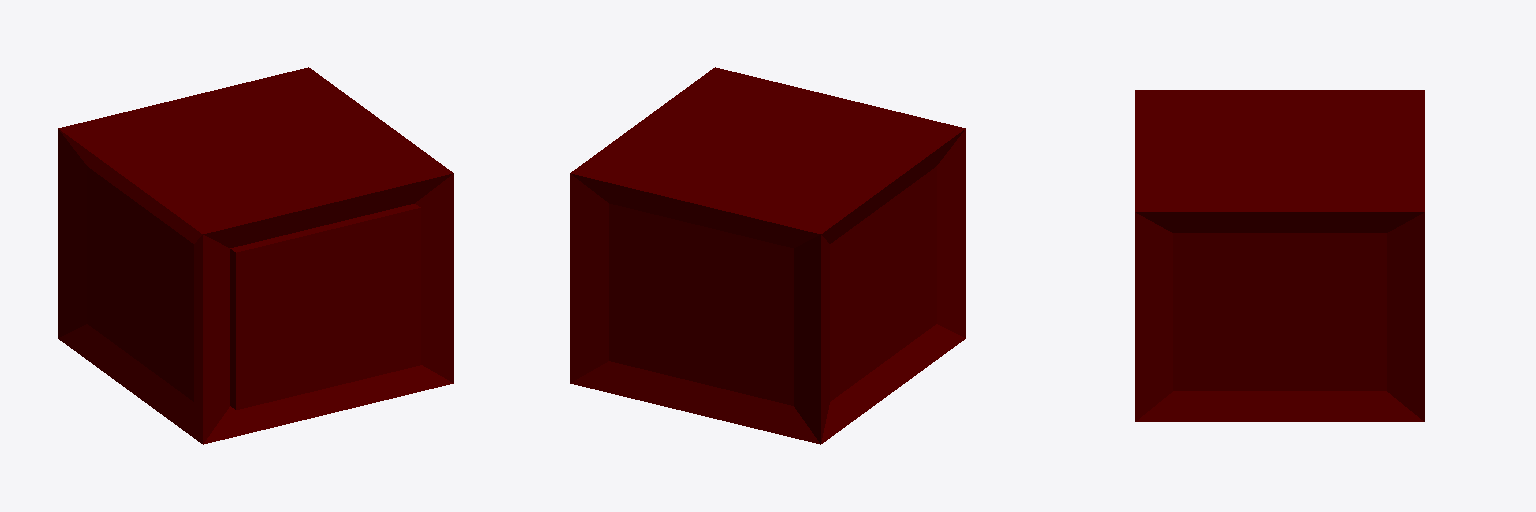
File: VelocitySensor.obj
The picture shows the model from 3 angles: view 1: azimuth 30°, elevation 25°; view 2: azimuth 150°, elevation 25°; view 3: azimuth 270°, elevation 25°; orthographic projection.
Visible parts, largest first — view 1: Handle1; view 2: Handle1; view 3: Handle1.
Boxes of the visible parts, x1=… form: Handle1: x1=58, y1=67, x2=453, y2=444; Handle1: x1=570, y1=67, x2=965, y2=444; Handle1: x1=1135, y1=90, x2=1424, y2=421.
Bounding box in the file's own units: 0.6 × 0.48 × 0.6.